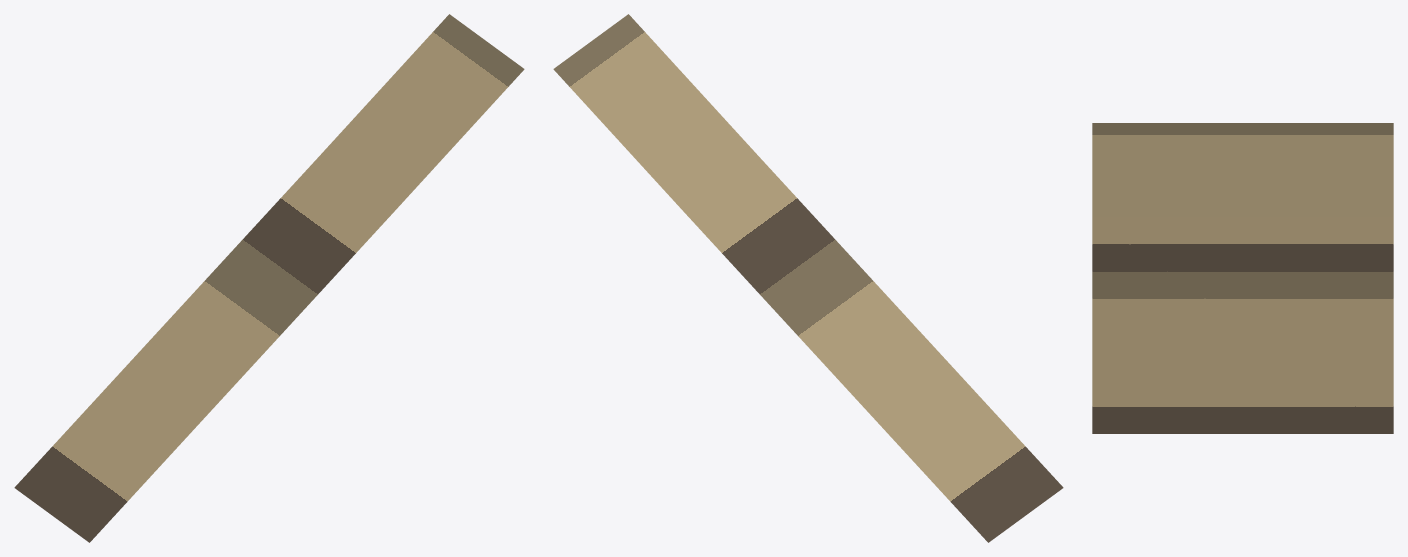
3 views of the same model, side by side, from view 1: azimuth 30°, elevation 25°; view 2: azimuth 150°, elevation 25°; view 3: azimuth 270°, elevation 25° (orthographic). The views are drawn at different scales.
Bounding box in the file's own units: 0.625 × 0.5047 × 0.1875.
1 material, 1 textured.
